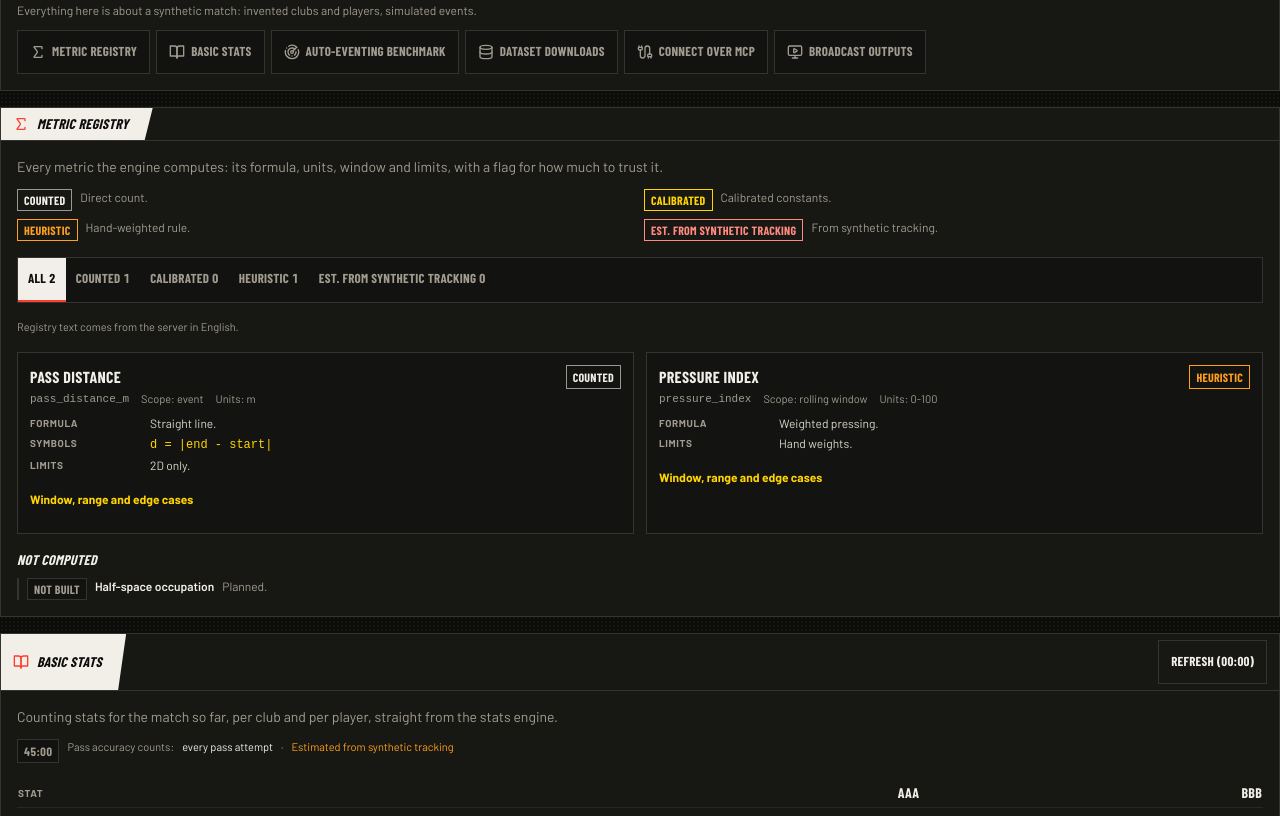
Test: Under the hood (#lab) › live: registry with quality badges, stats, benchmark, downloads, MCP and outputs
Expected: the heading "Pass distance" is shown, x1=30 y1=364 x2=121 y2=388
Expected: the text "Heuristic" next to "Hand-weighted rule." is shown, x1=24 y1=223 x2=70 y2=237
Note: Filtering by quality.
Click the radio button labelled "Heuristic 1" at [269, 280], box x1=229 y1=258 x2=309 y2=302
(page scrolled)
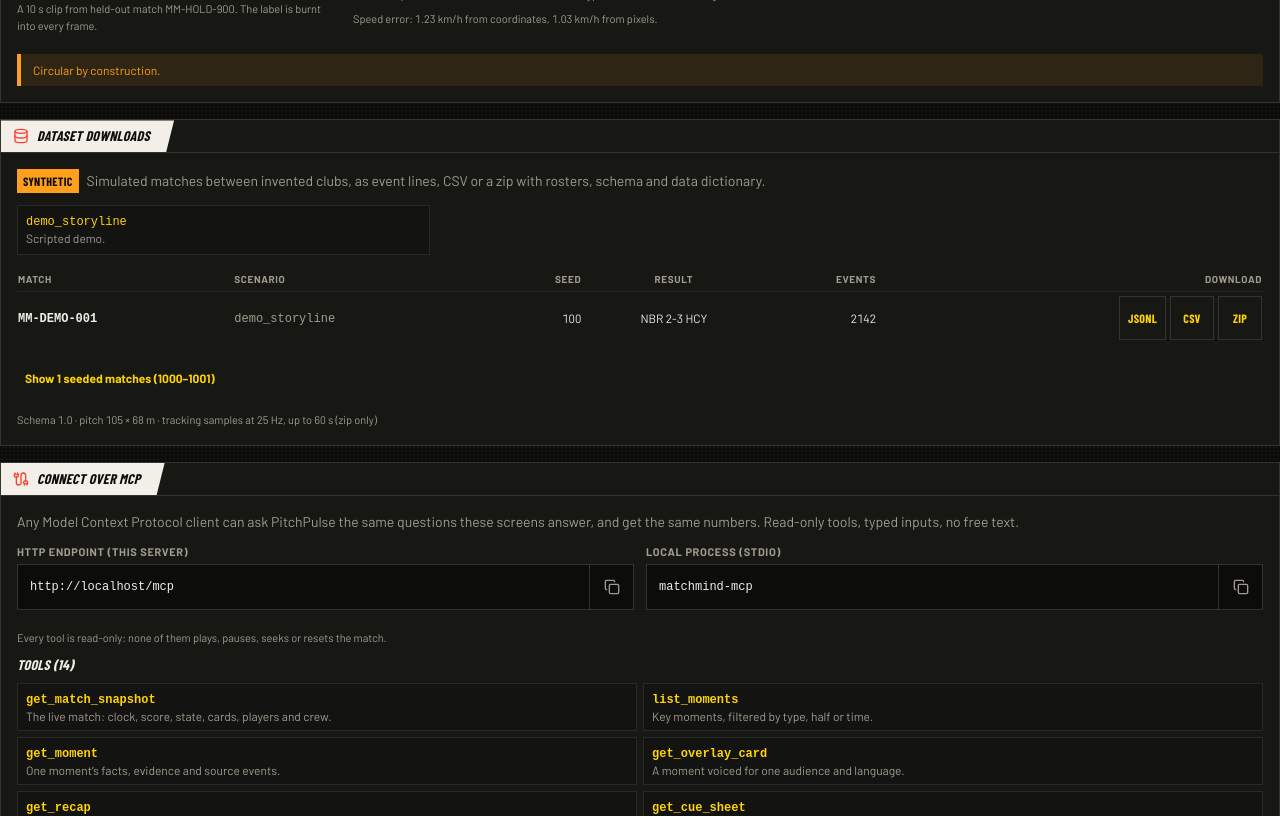
Expected: the text "MM-GEN-01000" is not shown
Expected: the heading "Pass distance" is gone
Click the button "Show 1 seeded matches (1000–1001)" at [120, 378], box x1=17 y1=356 x2=222 y2=400
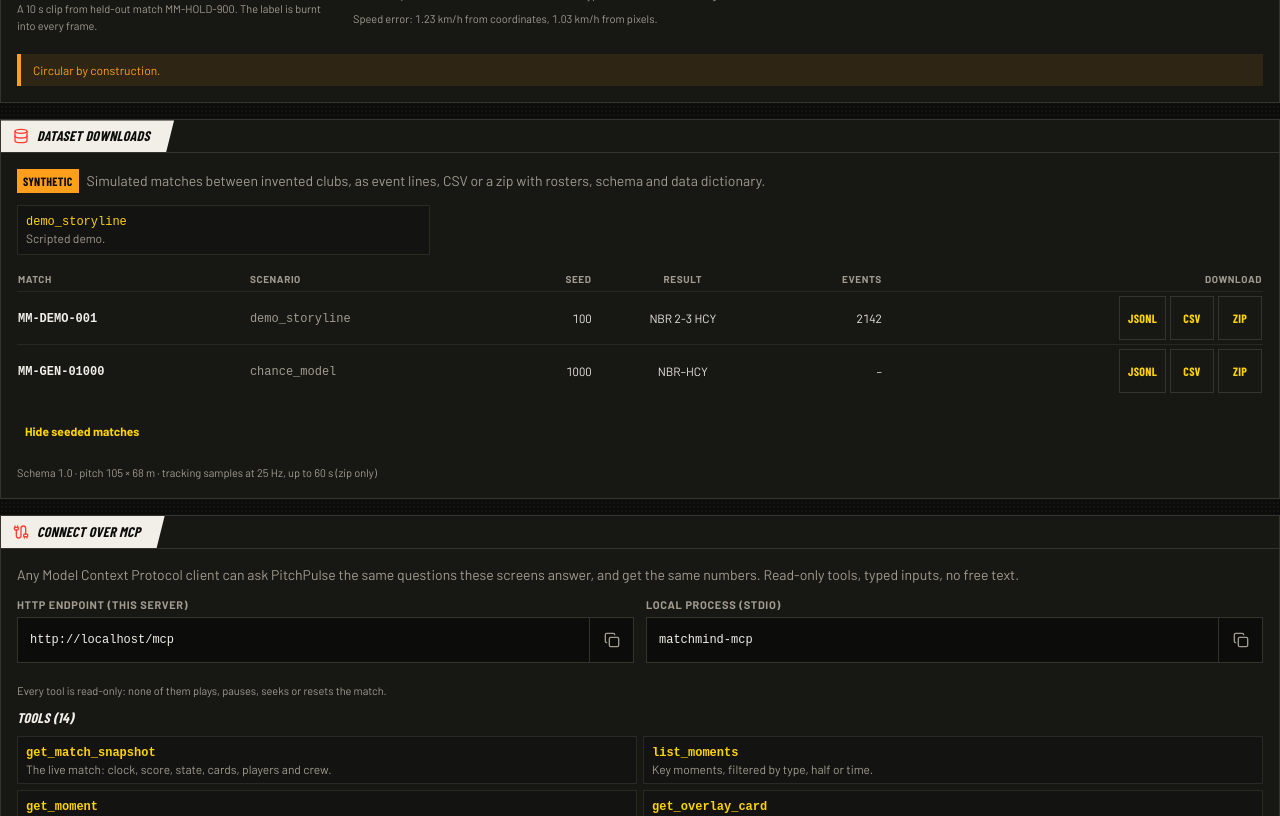
Expected: the text "matchmind-mcp" is shown, x1=659 y1=633 x2=753 y2=647
Expected: the text "MM-GEN-01000" is shown, x1=18 y1=365 x2=104 y2=379
